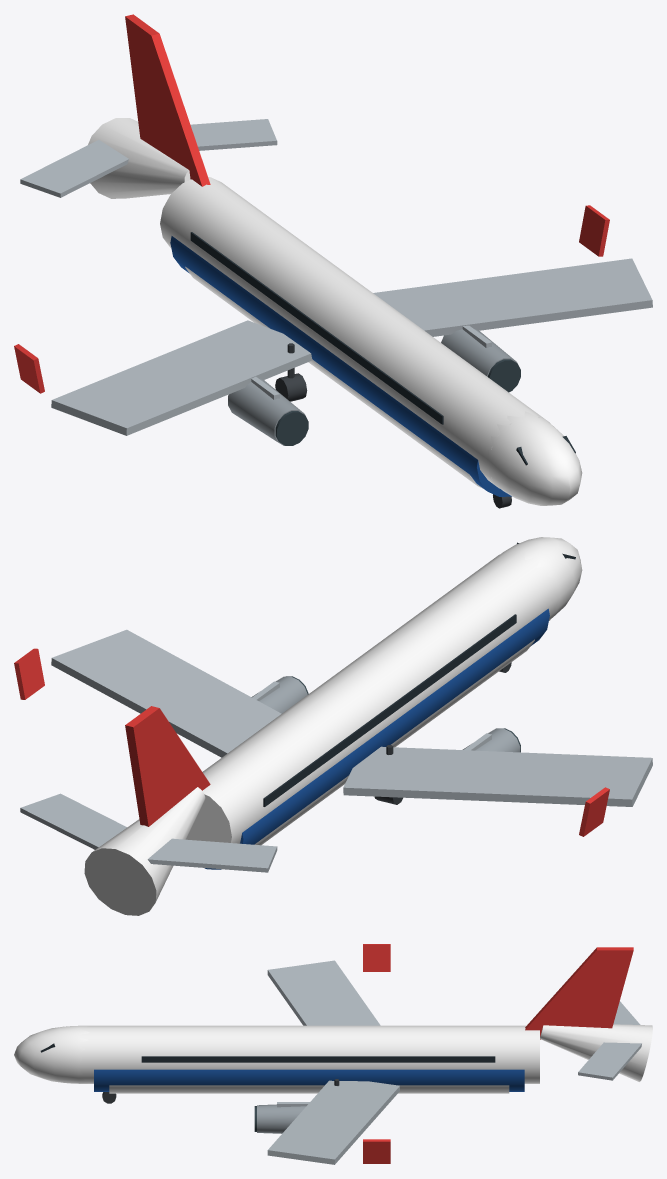
File: airport_plane.glb
3 renders of one model, top to bottom at view 1: azimuth 30°, elevation 25°; view 2: azimuth 150°, elevation 25°; view 3: azimuth 270°, elevation 25°, orthographic. The views are drawn at different scales.
Parts seen in each view (by area): view 1: AirportPlane_body, AirportPlane_gear; view 2: AirportPlane_body; view 3: AirportPlane_body.
Boxes of the visible parts, <box> form: AirportPlane_body: <box>14,14,652,505</box>; AirportPlane_gear: <box>275,343,511,508</box>; AirportPlane_body: <box>14,537,652,915</box>; AirportPlane_body: <box>14,944,652,1164</box>.
Bounding box in the file's own units: 30.66 × 10.98 × 41.55.
